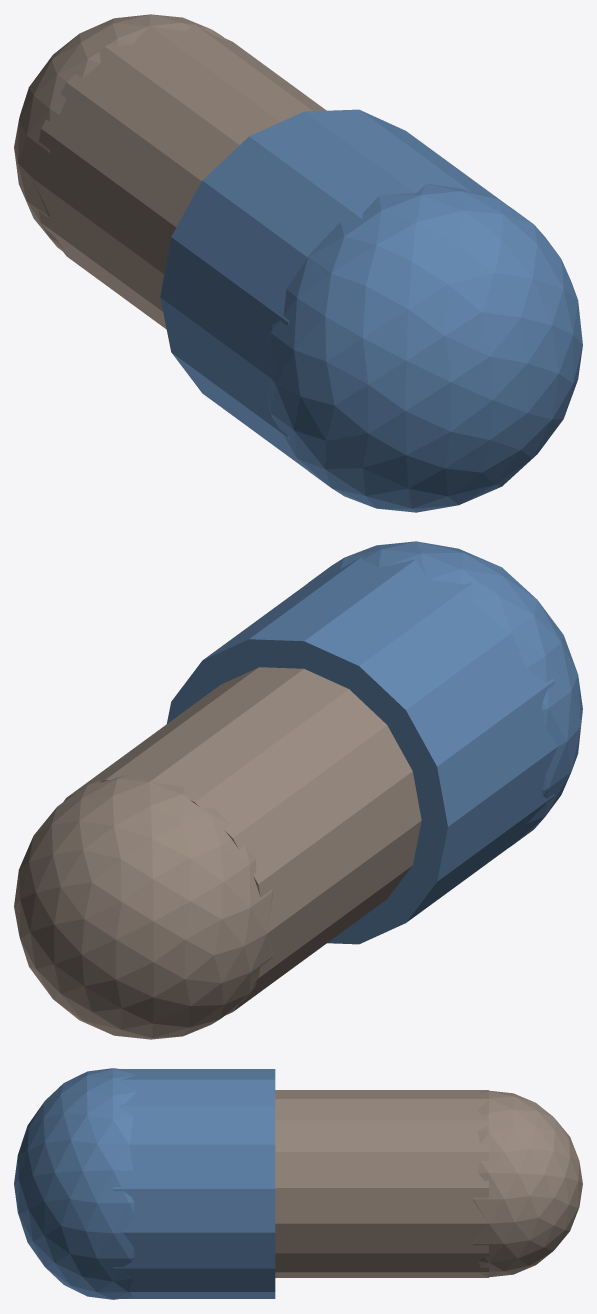
The model's file is windman_right_upper_arm.glb.
3 views of the same model, one above another, from view 1: azimuth 30°, elevation 25°; view 2: azimuth 150°, elevation 25°; view 3: azimuth 270°, elevation 25° (orthographic). The views are drawn at different scales.
Visible parts, largest first — view 1: geometry_0; view 2: geometry_0; view 3: geometry_0.
Boxes of the visible parts, x1,y1,x2,y2 form: geometry_0: (14, 14, 582, 512); geometry_0: (14, 541, 582, 1039); geometry_0: (14, 1068, 582, 1299).
Size of the model in its own units: 0.144 by 0.144 by 0.3512.
